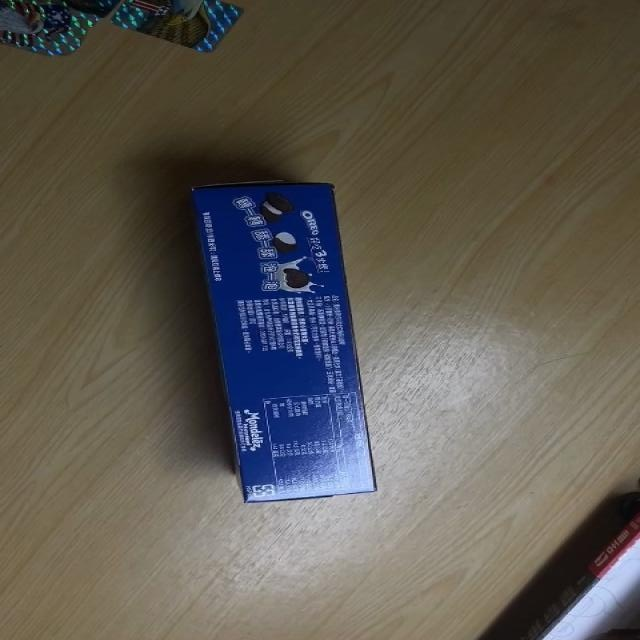Oreo: (191, 183, 378, 504)
